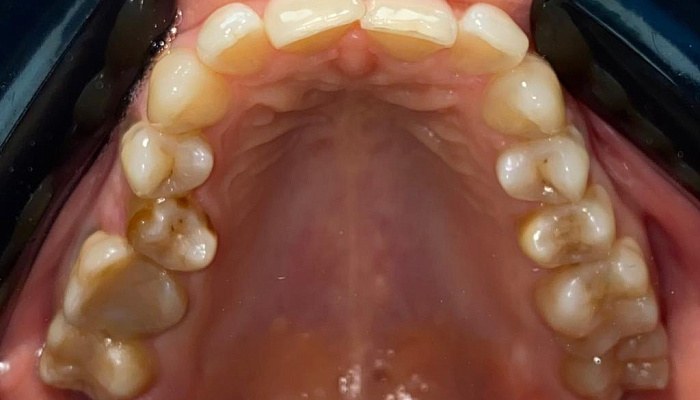UL1BC_healthy: (497, 138, 594, 204)
UL1M_decay: (543, 265, 659, 340)
UL2BC_decay: (521, 201, 615, 263)
ULCI_healthy: (360, 1, 456, 58)
ULC_healthy: (486, 66, 568, 136)
ULLI_healthy: (459, 11, 530, 72)
UR1BC_healthy: (122, 126, 215, 193)
UR1M_healthy: (72, 242, 194, 334)
UR2BC_decay: (124, 197, 222, 272)
UR2M_healthy: (43, 326, 155, 399)
URCI_healthy: (267, 2, 359, 51)
URC_healthy: (147, 53, 234, 130)
URLI_healthy: (200, 7, 266, 72)
